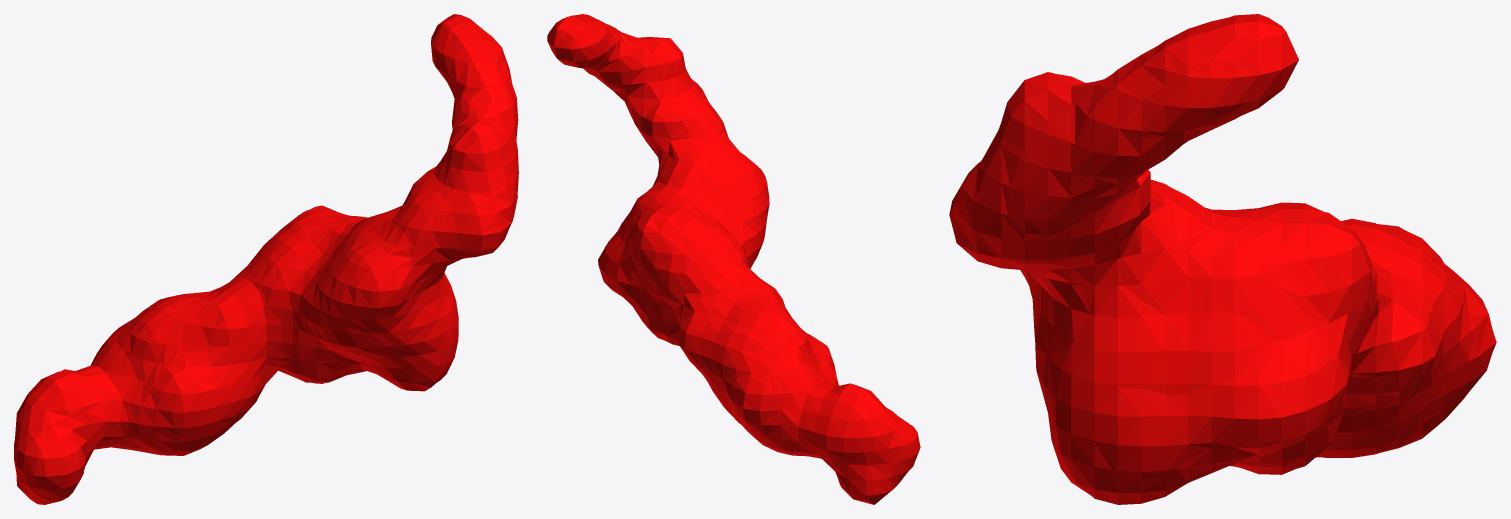
The model's file is LRRGT00101_Transmembrane_prote_coarse.dae.
3 renders of one model, left to right at view 1: azimuth 30°, elevation 25°; view 2: azimuth 150°, elevation 25°; view 3: azimuth 270°, elevation 25°, orthographic. The views are drawn at different scales.
Visible parts, largest first — view 1: LRRGT00101_Transmembrane_prote; view 2: LRRGT00101_Transmembrane_prote; view 3: LRRGT00101_Transmembrane_prote.
Part boxes in pixels (bbox=[...]): LRRGT00101_Transmembrane_prote: bbox=[14, 14, 518, 504]; LRRGT00101_Transmembrane_prote: bbox=[547, 14, 920, 504]; LRRGT00101_Transmembrane_prote: bbox=[949, 14, 1496, 504].
Bounding box in the file's own units: 79.36 × 72.07 × 49.89.
